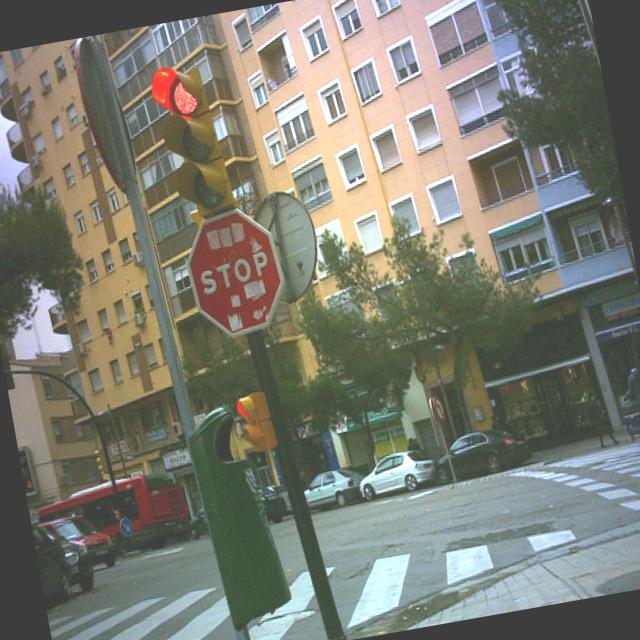Vehicle: (33, 470, 165, 570), (428, 424, 535, 485), (180, 482, 288, 540), (43, 508, 118, 579), (31, 516, 78, 611), (356, 450, 437, 501), (301, 465, 364, 510), (58, 534, 96, 594), (46, 604, 87, 640), (268, 482, 292, 516)
